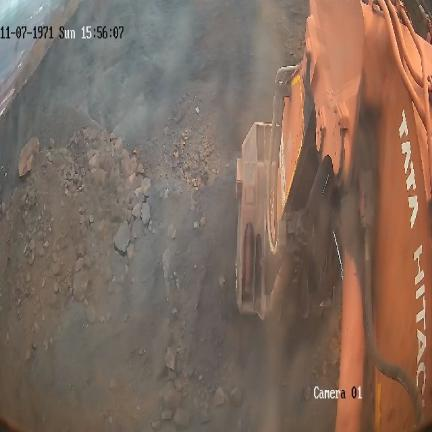pile: (2, 0, 334, 429)
